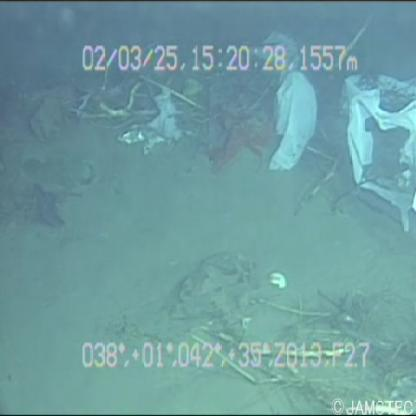Rác: (333, 60, 416, 234), (235, 18, 323, 182)
